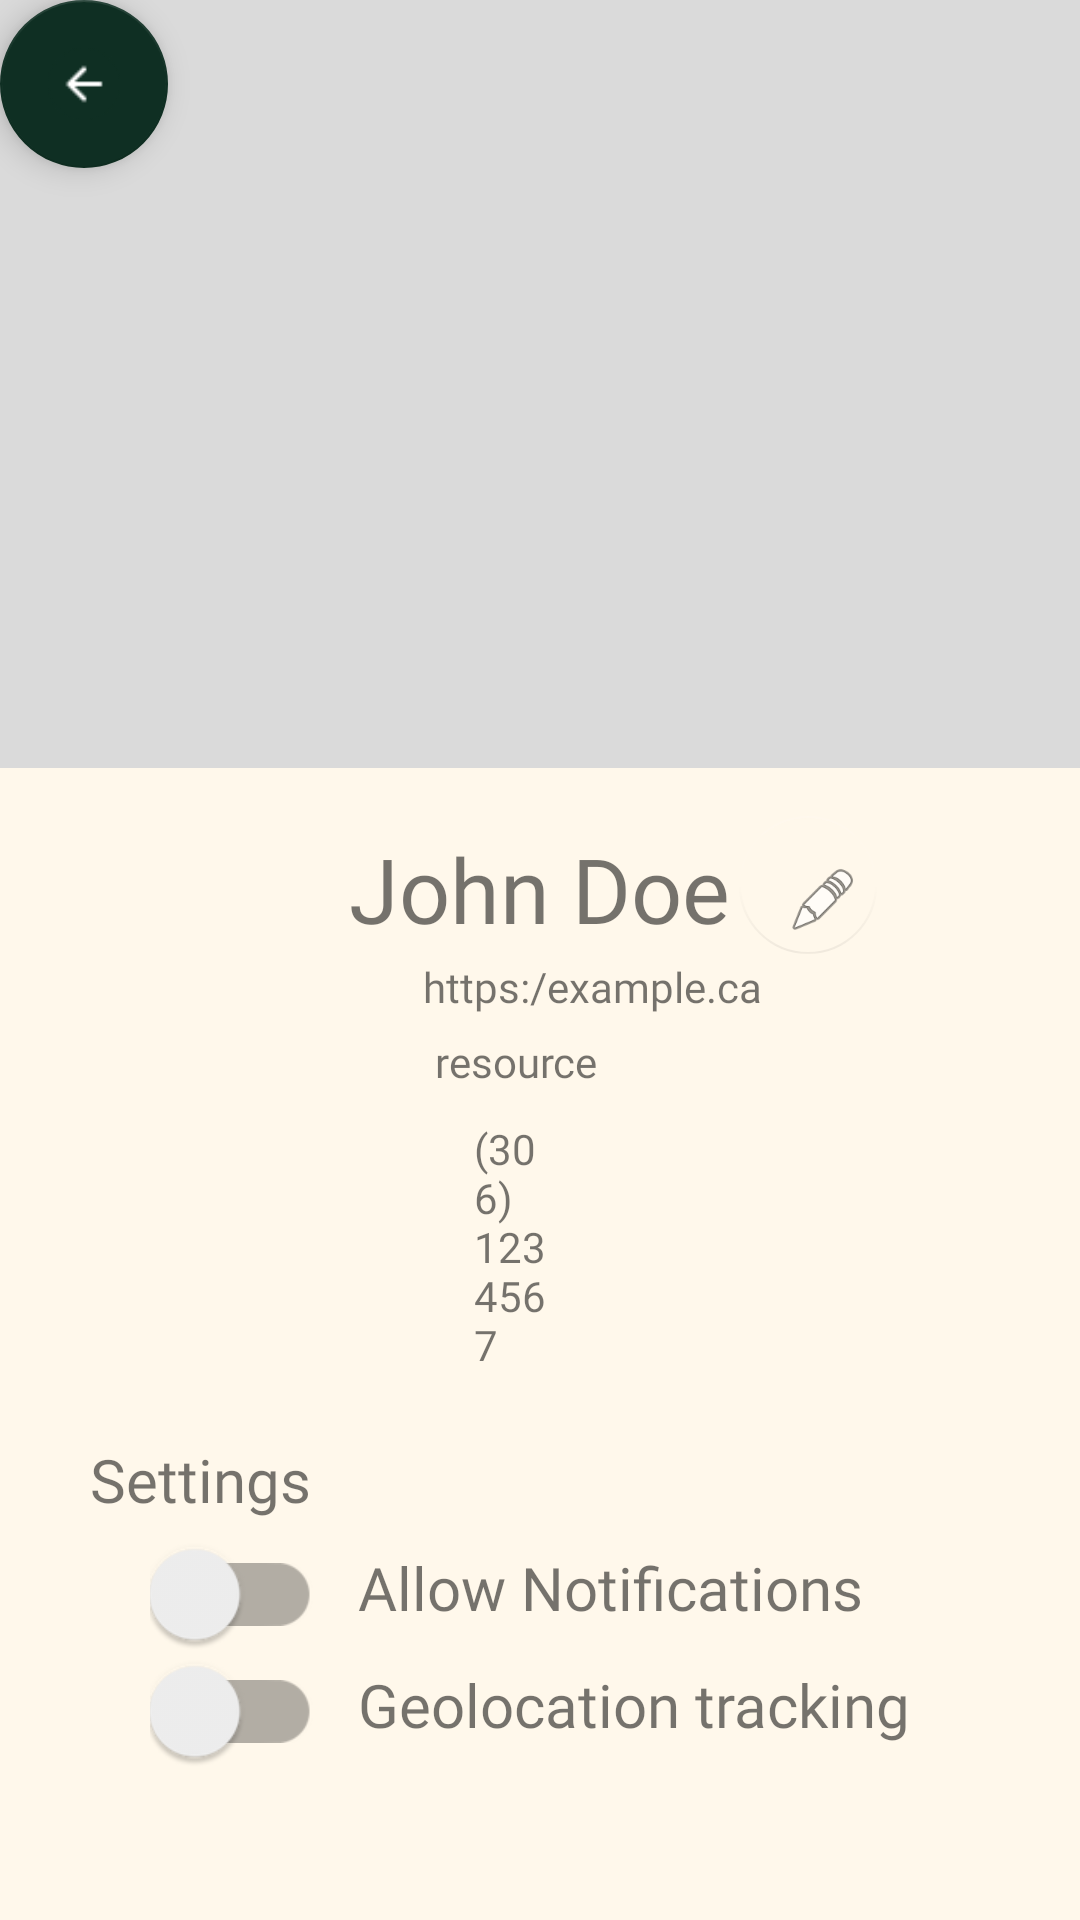

Locate icon controls on the screen. Image size 1080px x 1920px, boxes as (x1, y1, x2, y2).
back: (0, 0, 168, 168)
edit: (792, 869, 853, 930)
